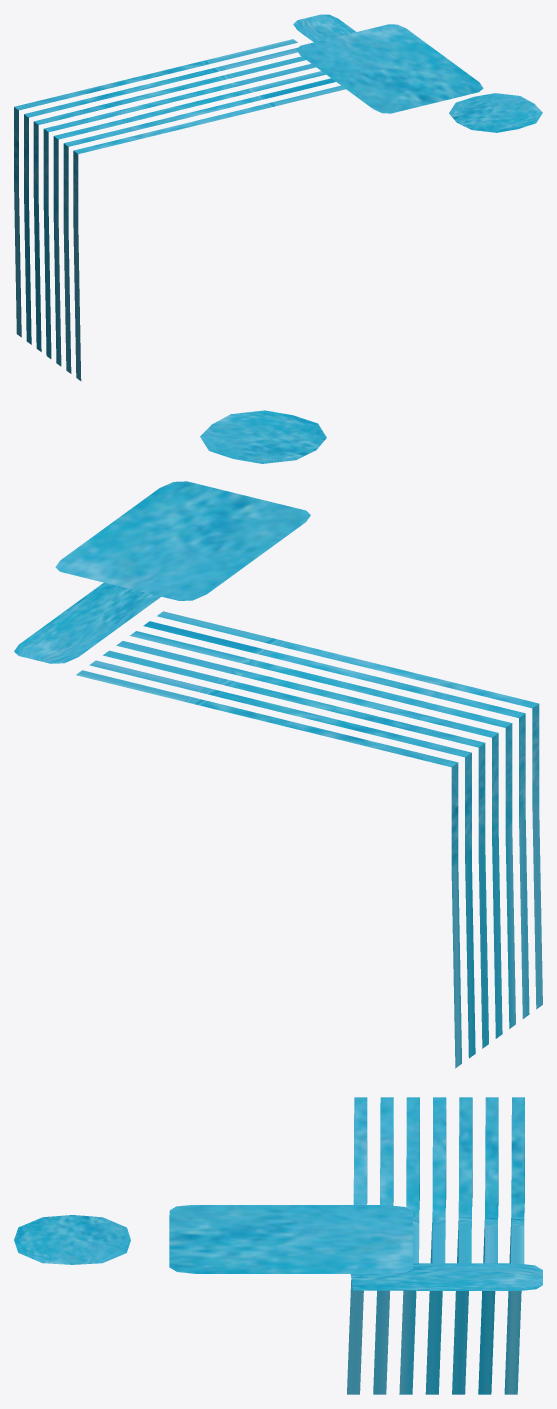
Rendered from farmstead_water.dae.
3 renders of one model, top to bottom at view 1: azimuth 30°, elevation 25°; view 2: azimuth 150°, elevation 25°; view 3: azimuth 270°, elevation 25°, orthographic. The views are drawn at different scales.
Parts seen in each view (by area): view 1: numi_farmstead_water; view 2: numi_farmstead_water; view 3: numi_farmstead_water.
Boxes of the visible parts, x1,y1,x2,y2 form: numi_farmstead_water: [14, 14, 542, 380]; numi_farmstead_water: [14, 410, 542, 1068]; numi_farmstead_water: [14, 1097, 542, 1394].
Size of the model in its own units: 15.76 by 15.65 by 11.58.
